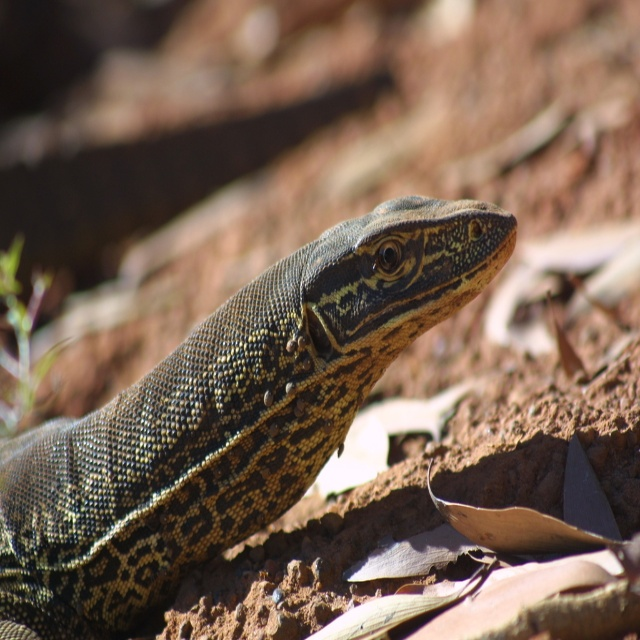Lizard: (0, 197, 519, 638)
